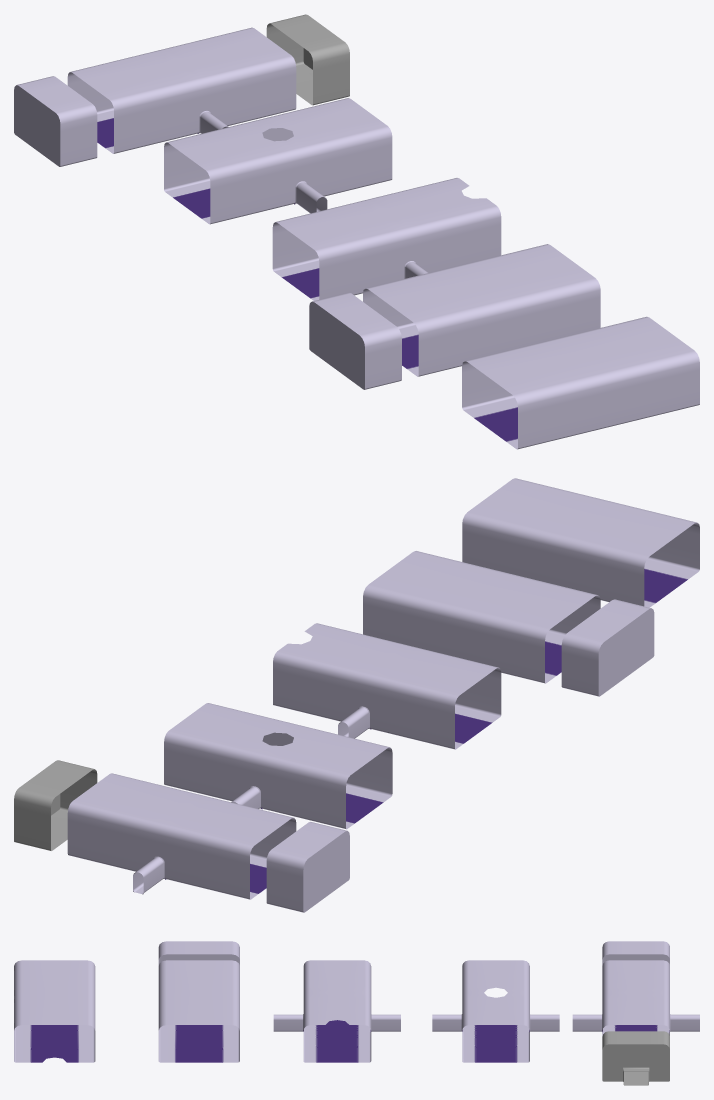
The model's file is Koridor.fbx.
3 renders of one model, top to bottom at view 1: azimuth 30°, elevation 25°; view 2: azimuth 150°, elevation 25°; view 3: azimuth 270°, elevation 25°, orthographic. The views are drawn at different scales.
Parts seen in each view (by area): view 1: Koridor_ust3, Koridor_alt2, Koridor_ust1, Koridor_alt3, Koridor_alt1, Koridor_ustson, Koridor_altgiris, Koridor_altson; view 2: Koridor_ust3, Koridor_alt3, Koridor_alt2, Koridor_ust1, Koridor_alt1, Koridor_ustson, Koridor_altgiris, Koridor_altson; view 3: Koridor_ust1, Koridor_ust3, Koridor_alt3, Koridor_alt2, Koridor_alt1, Koridor_altson, Koridor_ustson, Koridor_altgiris.
Part boxes in pixels (x1,y1,x2,y2): Koridor_ust3: [462, 316, 699, 449]; Koridor_alt2: [164, 98, 392, 224]; Koridor_ust1: [363, 244, 600, 376]; Koridor_alt3: [272, 178, 501, 300]; Koridor_alt1: [67, 27, 296, 153]; Koridor_ustson: [309, 292, 401, 389]; Koridor_altgiris: [14, 76, 97, 166]; Koridor_altson: [266, 14, 349, 105]; Koridor_ust3: [462, 478, 699, 607]; Koridor_alt3: [273, 623, 501, 749]; Koridor_alt2: [164, 703, 392, 829]; Koridor_ust1: [363, 551, 600, 683]; Koridor_alt1: [67, 773, 296, 899]; Koridor_ustson: [561, 599, 654, 696]; Koridor_altgiris: [266, 822, 349, 912]; Koridor_altson: [14, 760, 97, 850]; Koridor_ust1: [158, 960, 239, 1062]; Koridor_ust3: [14, 960, 95, 1062]; Koridor_alt3: [273, 960, 400, 1062]; Koridor_alt2: [432, 960, 559, 1062]; Koridor_alt1: [572, 960, 699, 1036]; Koridor_altson: [602, 1031, 669, 1085]; Koridor_ustson: [158, 941, 239, 965]; Koridor_altgiris: [602, 941, 669, 965].
Size of the model in its own units: 7692 by 1258 by 20871.
